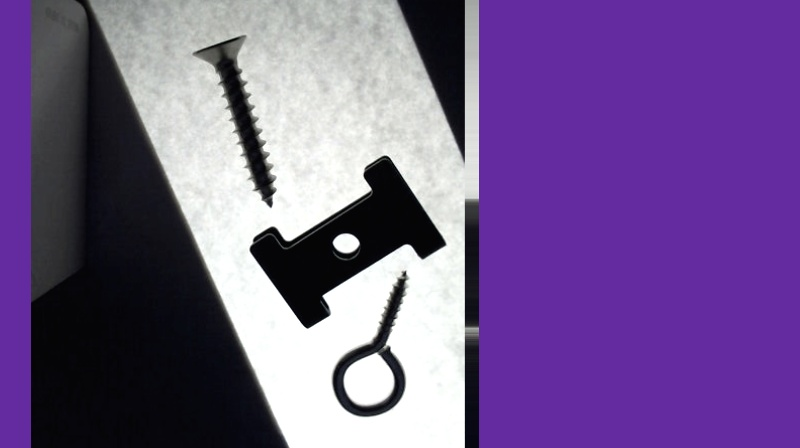O001: (329, 268, 410, 418)
O002: (249, 151, 446, 330)
S001: (190, 34, 276, 209)
